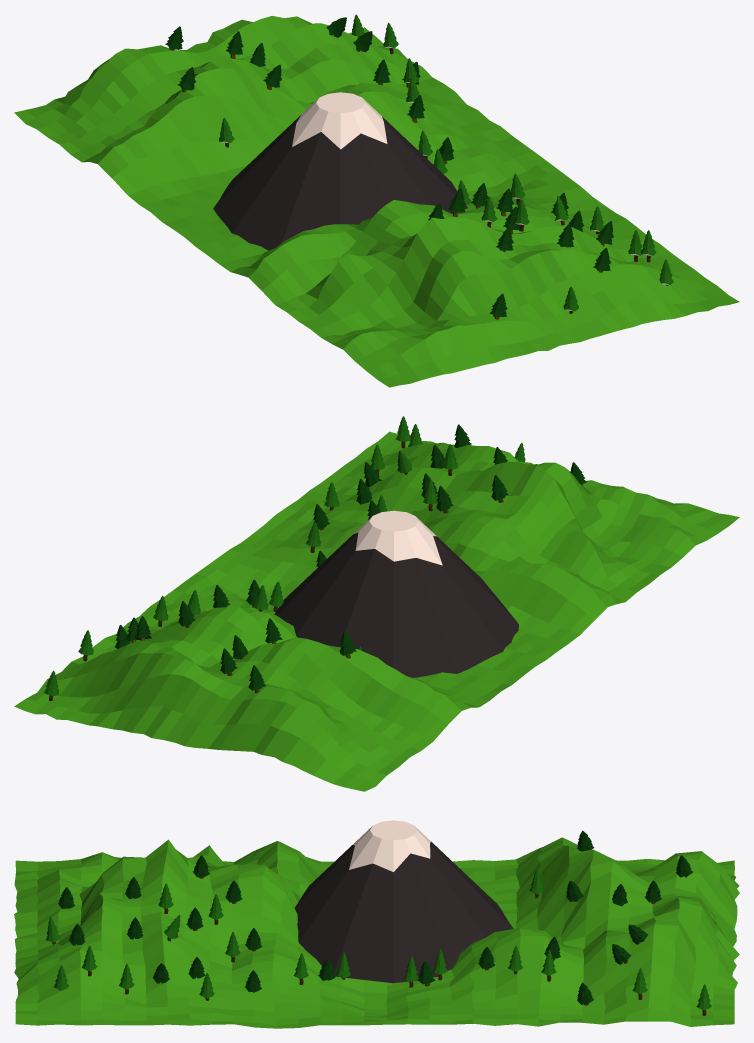
File: MountainBackground_LowPoly_Ver1.fbx
3 views of the same model, one above another, from view 1: azimuth 30°, elevation 25°; view 2: azimuth 150°, elevation 25°; view 3: azimuth 270°, elevation 25° (orthographic). The views are drawn at different scales.
Parts seen in each view (by area): view 1: Pine Tree.011; view 2: Pine Tree.011; view 3: Pine Tree.011.
Boxes of the visible parts, x1=… form: Pine Tree.011: x1=14, y1=14, x2=739, y2=387; Pine Tree.011: x1=14, y1=416, x2=739, y2=791; Pine Tree.011: x1=14, y1=820, x2=739, y2=1028.
Bounding box in the file's own units: 11320 × 3552 × 20716.
